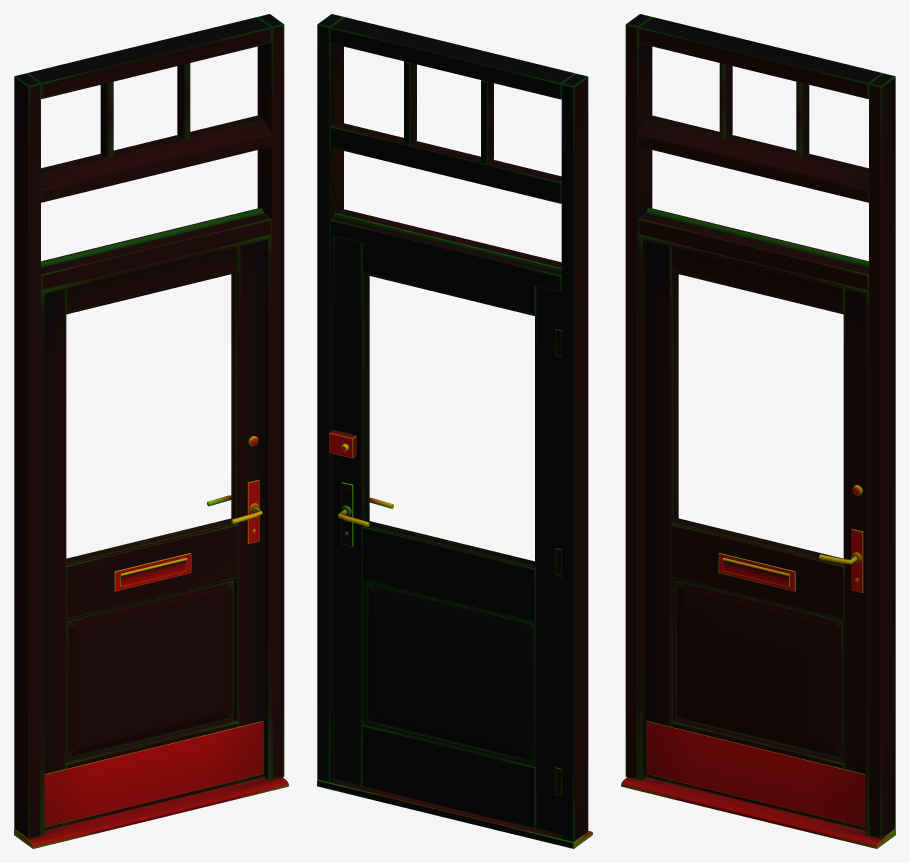
Rendered from shop_door.glb.
3 renders of one model, left to right at view 1: azimuth 30°, elevation 25°; view 2: azimuth 150°, elevation 25°; view 3: azimuth 330°, elevation 25°, orthographic.
Parts seen in each view (by area): view 1: shop_door_leaf, shop_door; view 2: shop_door_leaf, shop_door; view 3: shop_door_leaf, shop_door.
Part boxes in pixels (x1=…): shop_door_leaf: x1=44, y1=240, x2=264, y2=829; shop_door: x1=14, y1=14, x2=288, y2=848; shop_door_leaf: x1=329, y1=236, x2=561, y2=835; shop_door: x1=317, y1=14, x2=592, y2=848; shop_door_leaf: x1=645, y1=240, x2=865, y2=829; shop_door: x1=621, y1=14, x2=895, y2=848.
Size of the model in its own units: 1.01 by 2.85 by 0.1827.
